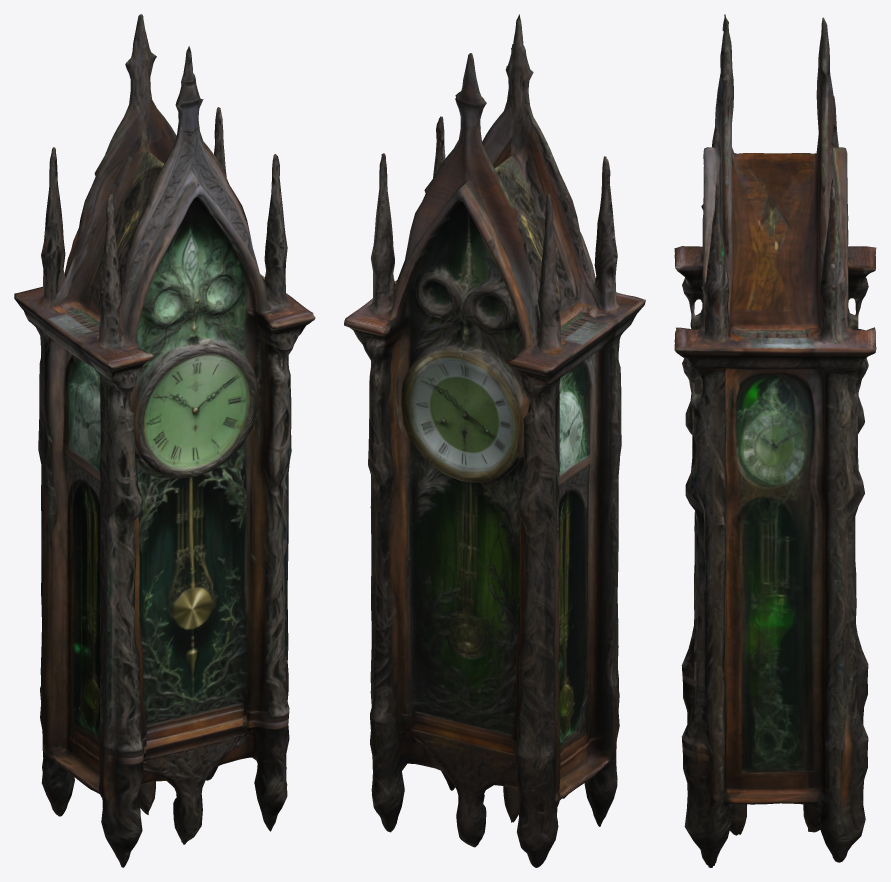
The model's file is A_towering_grandfathe_0613162806_texture.fbx.
3 views of the same model, side by side, from view 1: azimuth 30°, elevation 25°; view 2: azimuth 150°, elevation 25°; view 3: azimuth 270°, elevation 25° (orthographic). The views are drawn at different scales.
Visible parts, largest first — view 1: Mesh1_Mesh1.101; view 2: Mesh1_Mesh1.101; view 3: Mesh1_Mesh1.101.
Part boxes in pixels (left/top/right/bottom): Mesh1_Mesh1.101: left=14, top=14, right=315, bottom=867; Mesh1_Mesh1.101: left=344, top=14, right=645, bottom=867; Mesh1_Mesh1.101: left=674, top=14, right=876, bottom=867.
Size of the model in its own units: 53.64 by 198 by 44.12.
Materials: 1 (1 with a texture image).
